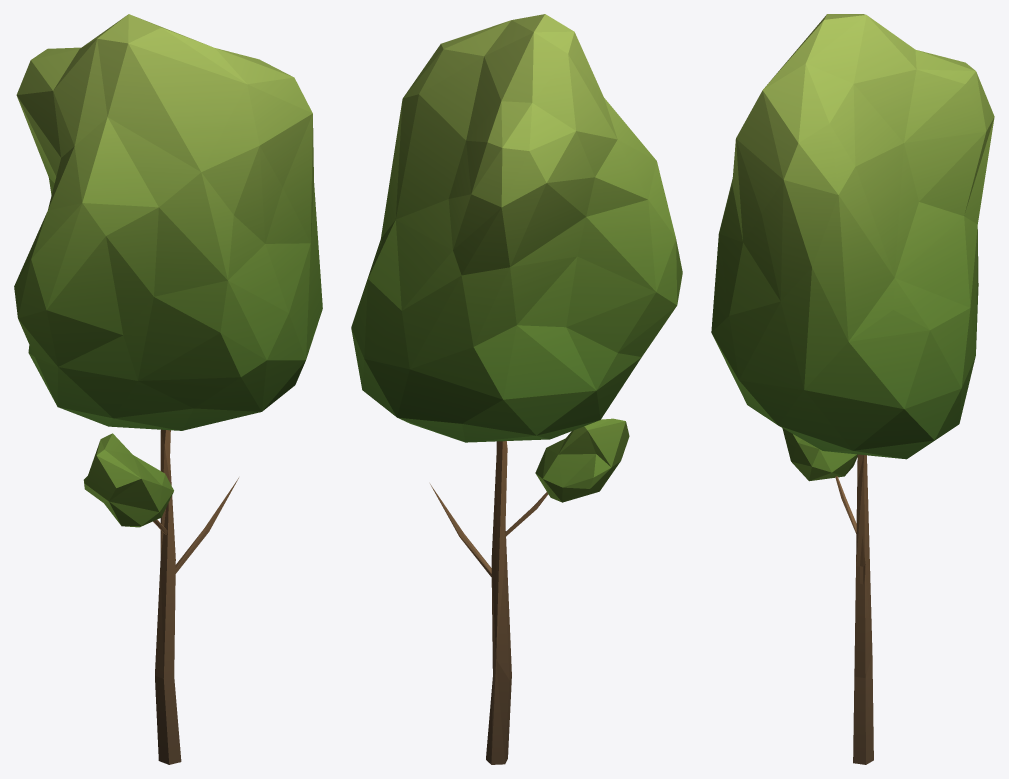
File: Summer_Tree_08.glb
The picture shows the model from 3 angles, left to right: view 1: azimuth 30°, elevation 25°; view 2: azimuth 150°, elevation 25°; view 3: azimuth 270°, elevation 25°; orthographic projection. The views are drawn at different scales.
Visible parts, largest first — view 1: Summer_Tree_08_LOD0; view 2: Summer_Tree_08_LOD0; view 3: Summer_Tree_08_LOD0.
Boxes of the visible parts, x1,y1,x2,y2 form: Summer_Tree_08_LOD0: [14, 14, 322, 764]; Summer_Tree_08_LOD0: [351, 14, 682, 764]; Summer_Tree_08_LOD0: [711, 14, 994, 764].
Size of what is drawn, in the model's own units: 2.71 by 6.61 by 2.34.
1 material, 1 textured.
